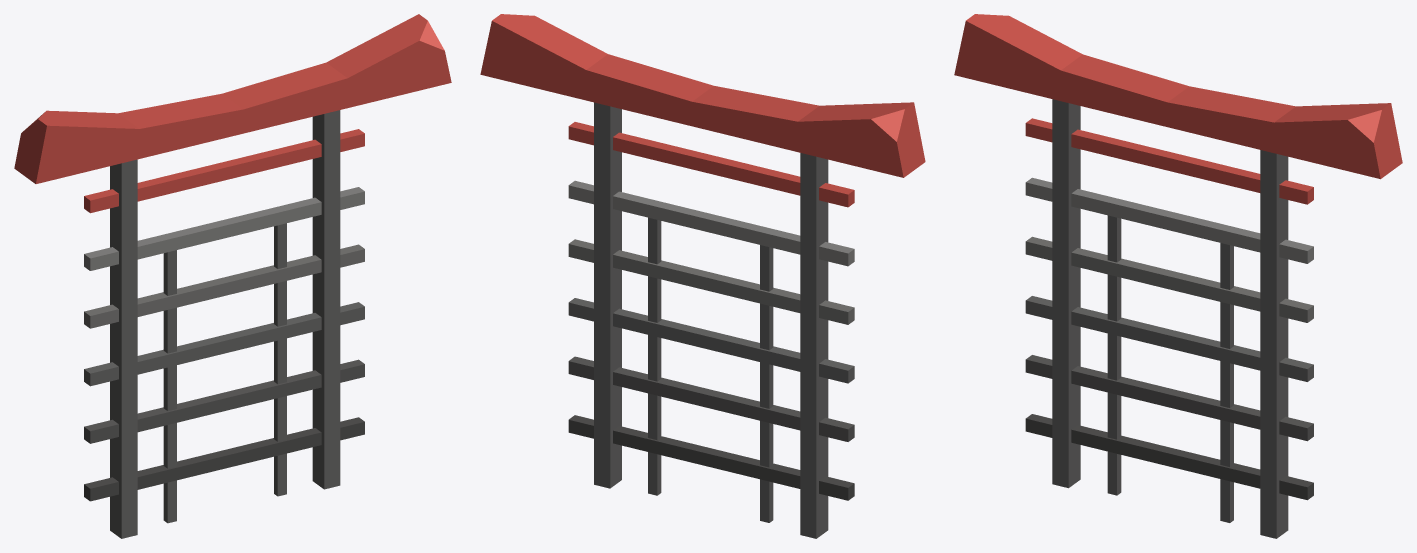
The model's file is diorama_4.fbx.
The picture shows the model from 3 angles, left to right: view 1: azimuth 30°, elevation 25°; view 2: azimuth 150°, elevation 25°; view 3: azimuth 330°, elevation 25°; orthographic projection. The views are drawn at different scales.
Visible parts, largest first — view 1: diorama_4; view 2: diorama_4; view 3: diorama_4.
Part boxes in pixels (x1,y1,x2,y2): diorama_4: (14,14,451,538); diorama_4: (480,14,925,538); diorama_4: (954,14,1402,538).
Size of the model in its own units: 378 by 379 by 33.84.
